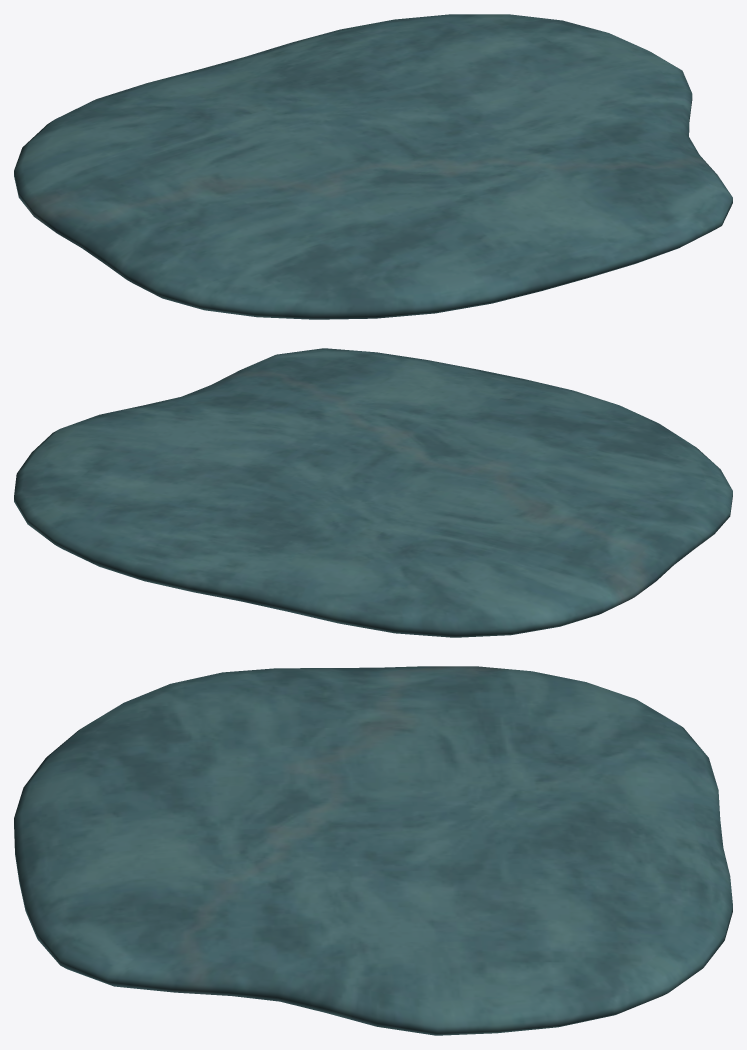
Rendered from jade_river_flat_08.glb.
3 views of the same model, one above another, from view 1: azimuth 30°, elevation 25°; view 2: azimuth 150°, elevation 25°; view 3: azimuth 270°, elevation 25° (orthographic). The views are drawn at different scales.
Visible parts, largest first — view 1: jade_river_flat_08; view 2: jade_river_flat_08; view 3: jade_river_flat_08.
Part boxes in pixels (box(x1,y1,x2,y2)): jade_river_flat_08: box(14, 14, 732, 319); jade_river_flat_08: box(14, 348, 732, 637); jade_river_flat_08: box(14, 666, 732, 1035).
Bounding box in the file's own units: 0.0847 × 0.00672 × 0.0718.
1 material, 1 textured.
